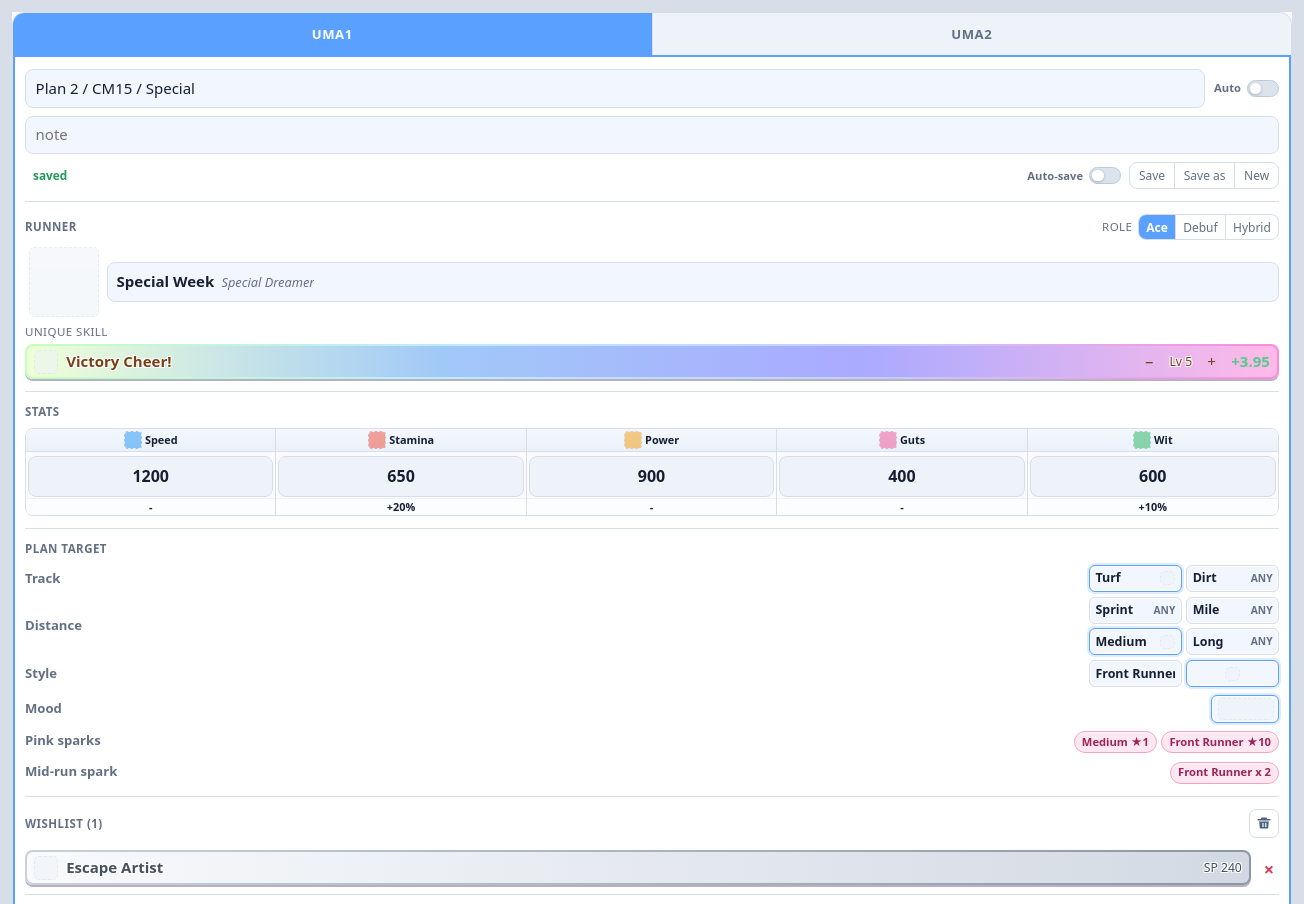
Test case: PlannerSidebar › cm horizon reveals the JP uma in runner search with a tier chip
The image size is (1304, 904).
Clear the search field named "Search uma or unique skill". click: (693, 282)
box: [107, 262, 1279, 302]
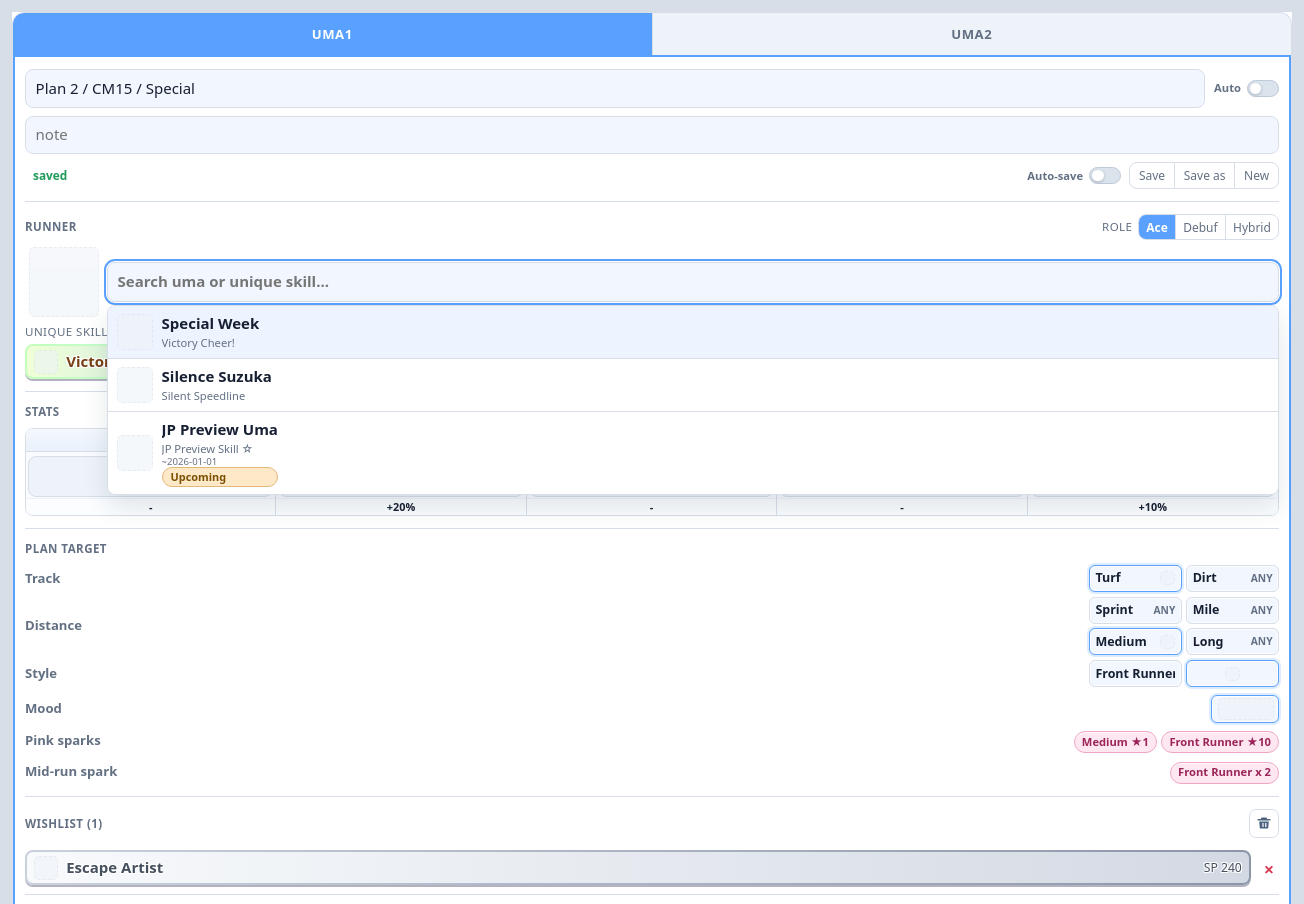
Now the list named "Uma search results" is shown, box [107, 305, 1279, 495]
Now the text "JP Preview Uma" is shown, box [162, 419, 278, 441]
Now the text "~2026-01-01" is shown, box [162, 455, 217, 468]
